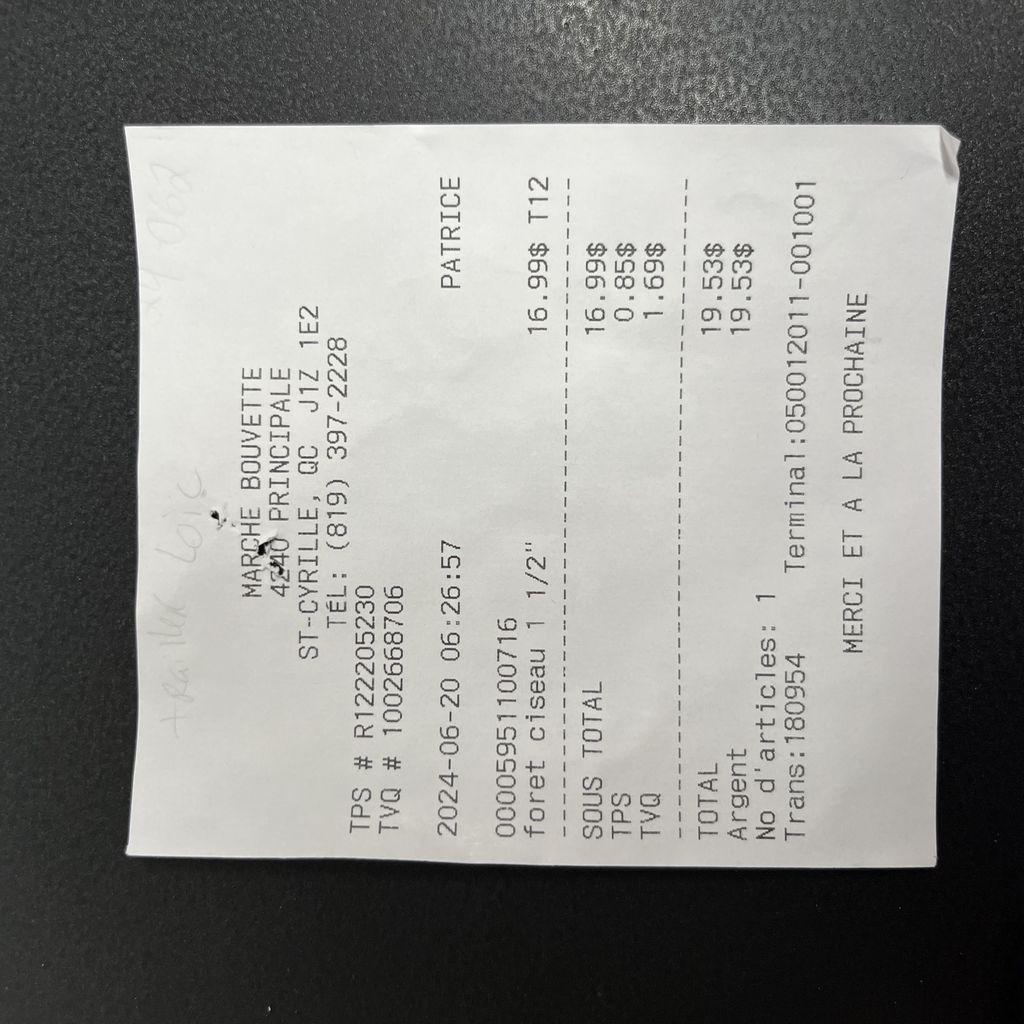recipt: (126, 122, 963, 871)
